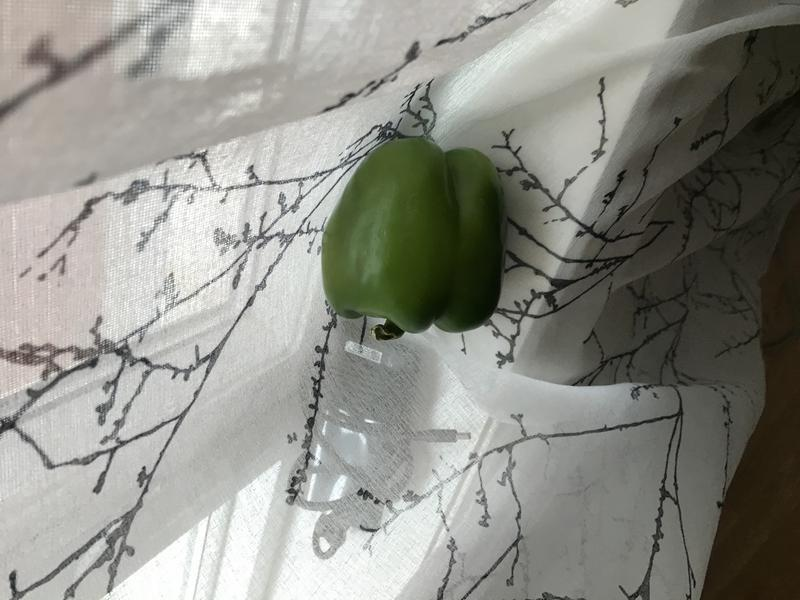green_pepper: (312, 128, 519, 354)
